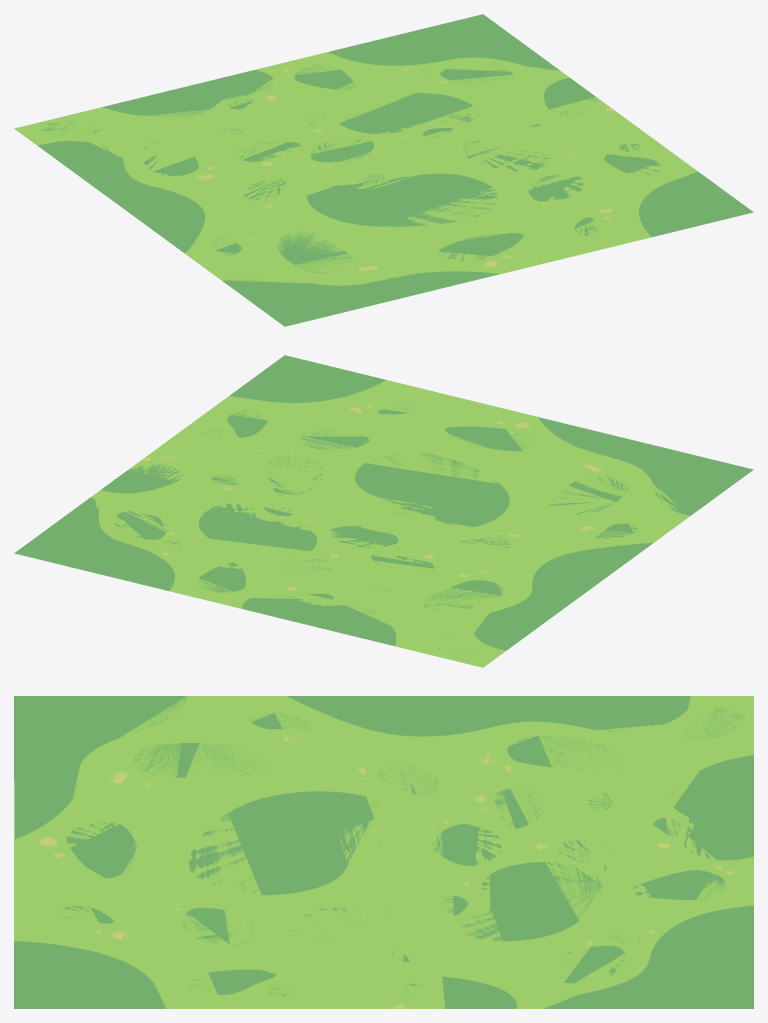
Rendered from ground.fbx.
3 views of the same model, one above another, from view 1: azimuth 30°, elevation 25°; view 2: azimuth 150°, elevation 25°; view 3: azimuth 270°, elevation 25° (orthographic). The views are drawn at different scales.
Visible parts, largest first — view 1: ground; view 2: ground; view 3: ground.
Part boxes in pixels (left/top/right/bottom): ground: left=14, top=14, right=753, bottom=326; ground: left=14, top=355, right=753, bottom=667; ground: left=14, top=696, right=753, bottom=1008.
Bounding box in the file's own units: 20000 × 20000 × 4.77e-05.
Materials: 1 (1 with a texture image).
